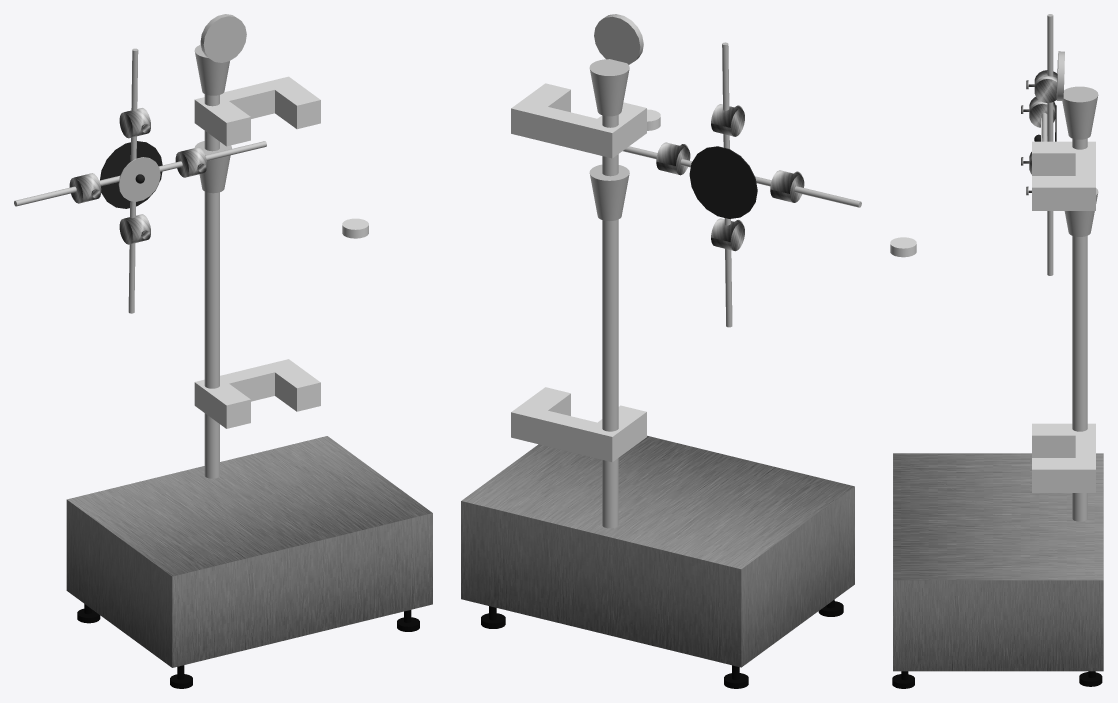
Rendered from MyUstanovka.FBX.
3 views of the same model, side by side, from view 1: azimuth 30°, elevation 25°; view 2: azimuth 150°, elevation 25°; view 3: azimuth 270°, elevation 25° (orthographic). The views are drawn at different scales.
Parts seen in each view (by area): view 1: Box001, Cone004, Box006, Box005, Sphere001, Cylinder013, Cylinder006, Cylinder020, Cylinder021, Cylinder019, Cylinder018; view 2: Box001, Cone004, Box006, Box005, Sphere001, Cylinder013, Cylinder006, Cylinder020, Cylinder021, Cylinder018, Cylinder019; view 3: Box001, Cone004, Box005, Box006, Cylinder013, Cylinder020, Cylinder006, Cylinder019, Cylinder012.
Boxes of the visible parts, <box> form: Box001: <box>66,436,432,667</box>; Cone004: <box>194,14,246,478</box>; Box006: <box>194,359,320,428</box>; Box005: <box>194,76,320,146</box>; Sphere001: <box>100,141,162,208</box>; Cylinder013: <box>14,48,266,313</box>; Cylinder006: <box>77,604,419,688</box>; Cylinder020: <box>119,108,150,138</box>; Cylinder021: <box>119,214,150,244</box>; Cylinder019: <box>69,173,101,203</box>; Cylinder018: <box>175,147,207,177</box>; Box001: <box>461,435,854,667</box>; Cone004: <box>589,14,643,528</box>; Box006: <box>511,387,646,462</box>; Box005: <box>511,83,646,158</box>; Sphere001: <box>689,146,757,218</box>; Cylinder013: <box>623,42,861,327</box>; Cylinder006: <box>481,599,843,688</box>; Cylinder020: <box>711,104,744,136</box>; Cylinder021: <box>711,218,744,251</box>; Cylinder018: <box>656,142,690,175</box>; Cylinder019: <box>770,170,804,202</box>; Box001: <box>893,453,1103,671</box>; Cone004: <box>1056,51,1098,521</box>; Box005: <box>1032,141,1095,210</box>; Box006: <box>1032,423,1095,492</box>; Cylinder013: <box>1041,14,1053,275</box>; Cylinder020: <box>1026,70,1057,102</box>; Cylinder006: <box>892,671,1102,688</box>; Cylinder019: <box>1021,97,1055,127</box>; Cylinder012: <box>890,237,916,257</box>.
Bounding box in the file's own units: 12.44 × 20.24 × 6.74.
